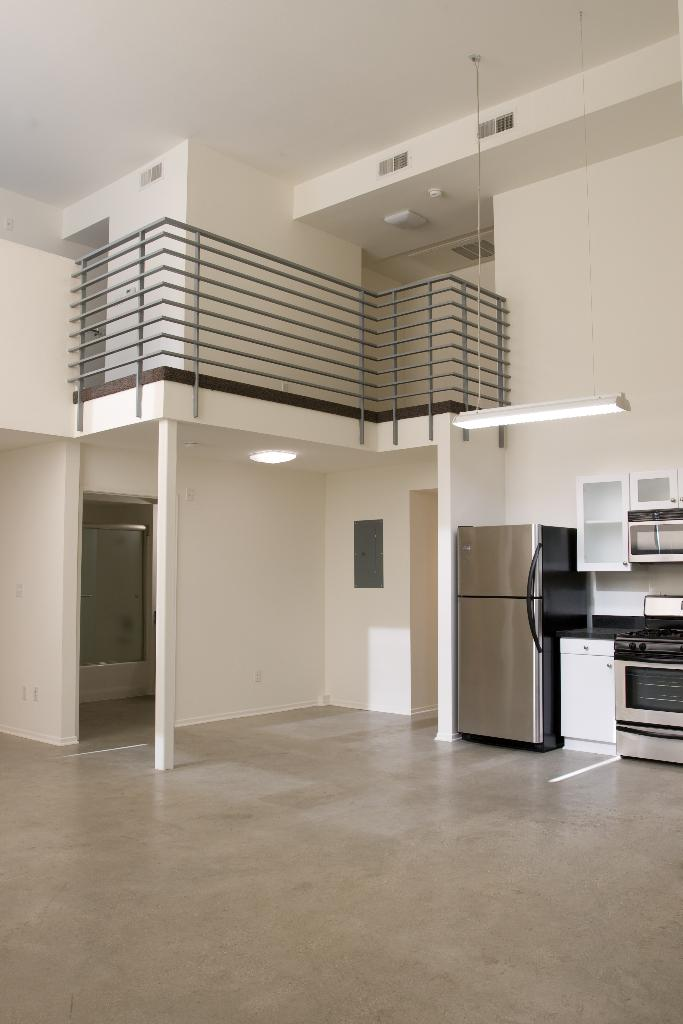cabinet door: (577, 481, 628, 572), (632, 471, 677, 508)
handle: (527, 593, 542, 661), (527, 546, 542, 585)
refrigerator door: (456, 603, 538, 725), (457, 532, 538, 599)
